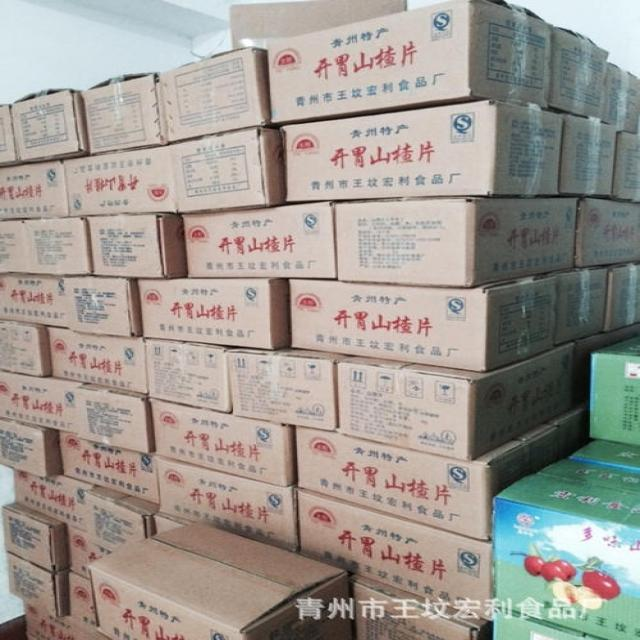box: (270, 1, 550, 125), (298, 424, 562, 540), (91, 524, 352, 640), (282, 104, 564, 201), (340, 343, 573, 460), (495, 458, 639, 640), (301, 490, 493, 620), (288, 278, 559, 370), (335, 199, 577, 286), (159, 457, 298, 553), (150, 400, 297, 485), (183, 202, 337, 278), (161, 48, 271, 142), (141, 281, 289, 350), (232, 348, 349, 431), (348, 575, 492, 640), (174, 129, 284, 212), (232, 0, 408, 48), (65, 148, 178, 214), (59, 431, 159, 505), (83, 73, 168, 156), (47, 329, 146, 394), (90, 215, 187, 278), (148, 342, 232, 412), (549, 27, 609, 122), (13, 89, 90, 163), (78, 384, 152, 454), (0, 372, 84, 433), (593, 337, 639, 446), (14, 470, 95, 529), (577, 325, 639, 401), (4, 504, 72, 573), (88, 486, 159, 551), (64, 279, 141, 337), (562, 115, 614, 195), (556, 267, 608, 345), (6, 553, 69, 617), (579, 199, 639, 265), (0, 161, 69, 218), (0, 419, 63, 479), (26, 217, 93, 273), (1, 276, 70, 326), (24, 602, 109, 640), (1, 321, 52, 379), (494, 613, 600, 640), (69, 525, 115, 578), (605, 63, 639, 133), (607, 264, 640, 330), (571, 441, 640, 471), (612, 132, 639, 202), (554, 406, 591, 455), (0, 222, 31, 272), (0, 106, 24, 167), (70, 575, 97, 628)
